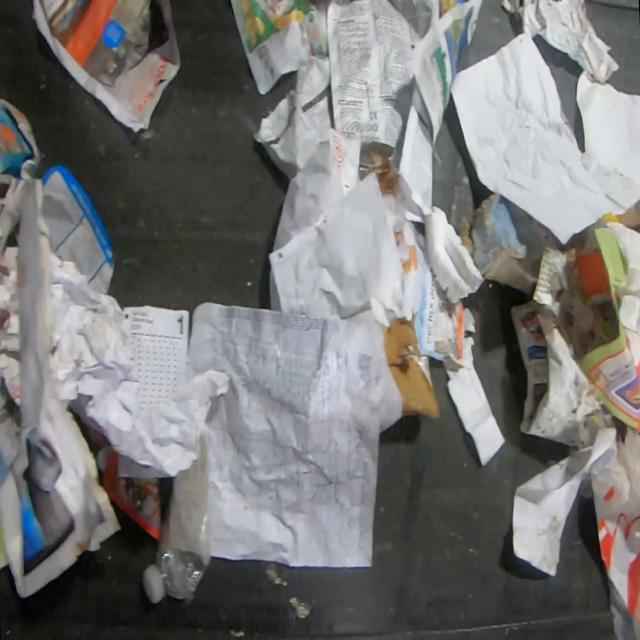cardboard: (459, 191, 582, 297), (16, 177, 55, 442), (382, 314, 442, 421)
rigid_plastic: (141, 435, 214, 605)
soft_plastic: (589, 426, 640, 640)
